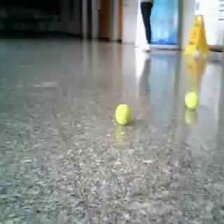tennis: (114, 104, 131, 125), (184, 91, 199, 109)
